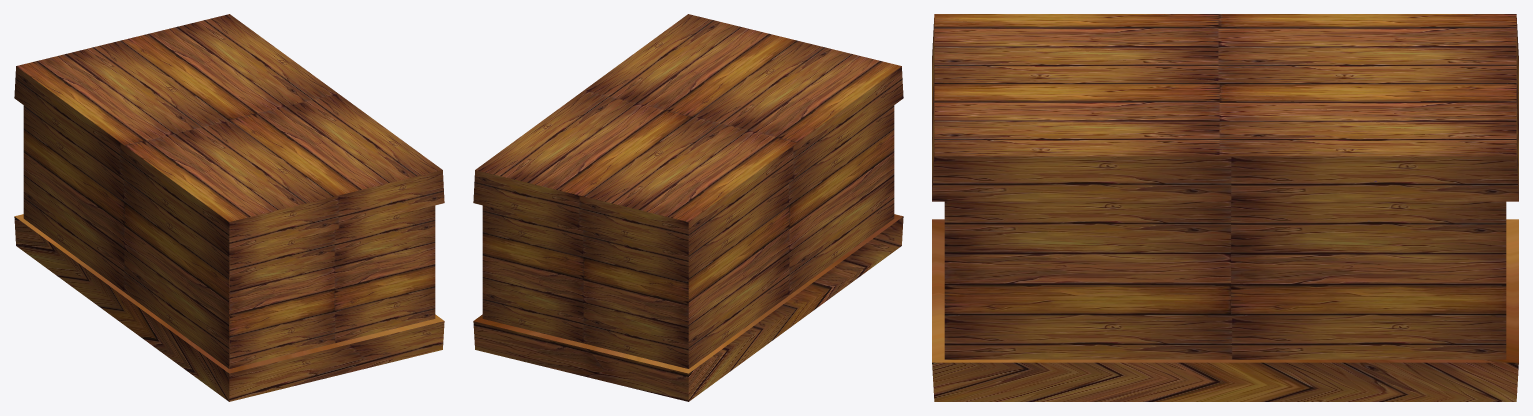
The model's file is Chest.fbx.
3 views of the same model, side by side, from view 1: azimuth 30°, elevation 25°; view 2: azimuth 150°, elevation 25°; view 3: azimuth 270°, elevation 25° (orthographic). The views are drawn at different scales.
Parts seen in each view (by area): view 1: Crate; view 2: Crate; view 3: Crate.
Part boxes in pixels (x1,y1,x2,y2): Crate: [14, 14, 444, 401]; Crate: [473, 14, 903, 401]; Crate: [932, 14, 1518, 401].
Bounding box in the file's own units: 415 × 331 × 718.
